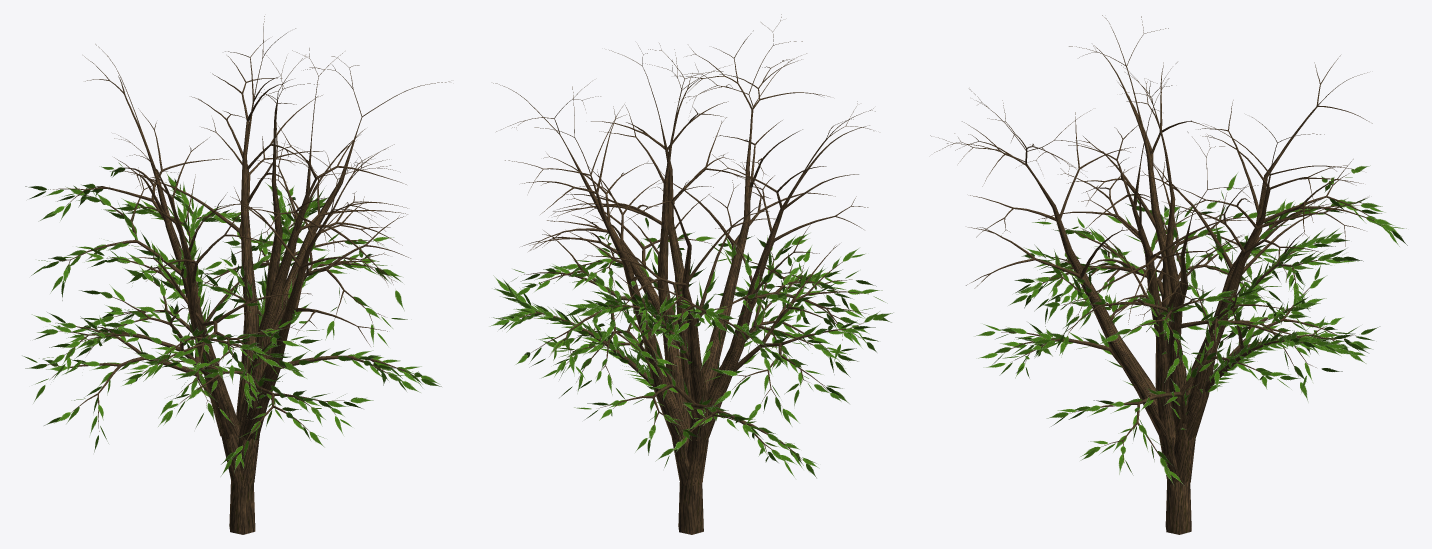
The model's file is tree.glb.
3 renders of one model, left to right at view 1: azimuth 30°, elevation 25°; view 2: azimuth 150°, elevation 25°; view 3: azimuth 270°, elevation 25°, orthographic. The views are drawn at different scales.
Visible parts, largest first — view 1: tree.040, leaves.035; view 2: tree.040, leaves.035; view 3: tree.040, leaves.035.
Part boxes in pixels (left/top/right/bottom): tree.040: left=45, top=16, right=449, bottom=534; leaves.035: left=22, top=162, right=441, bottom=476; tree.040: left=493, top=14, right=875, bottom=534; leaves.035: left=489, top=217, right=893, bottom=478; tree.040: left=930, top=15, right=1386, bottom=534; leaves.035: left=974, top=165, right=1407, bottom=485.
Bounding box in the file's own units: 2.31 × 2.6 × 2.4.
2 materials, 2 textured.
